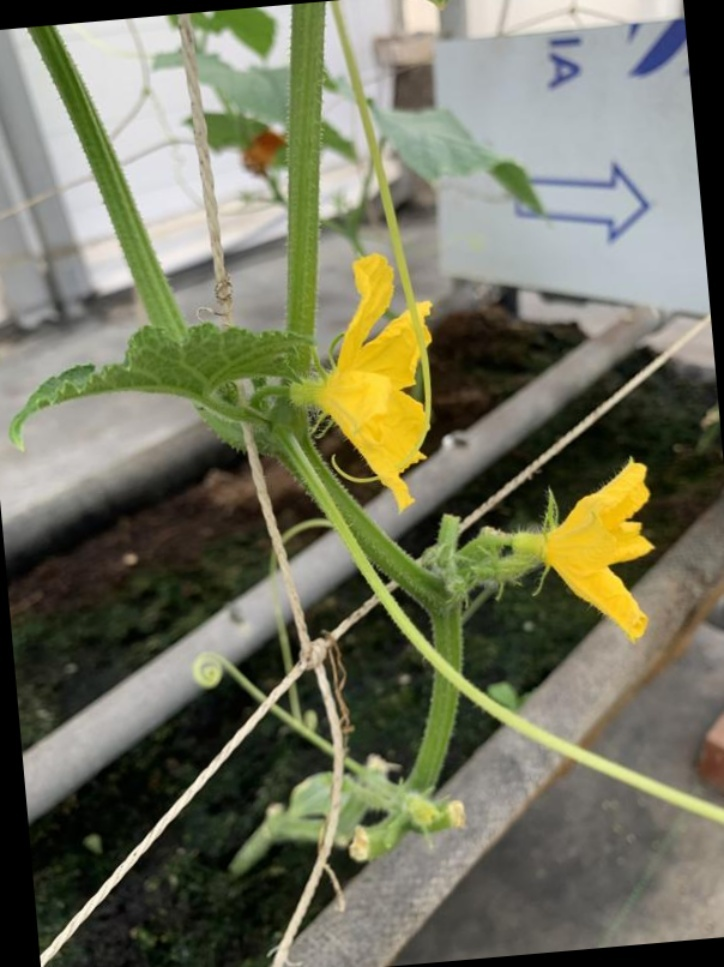flowering: (503, 452, 665, 650), (312, 264, 445, 499)
